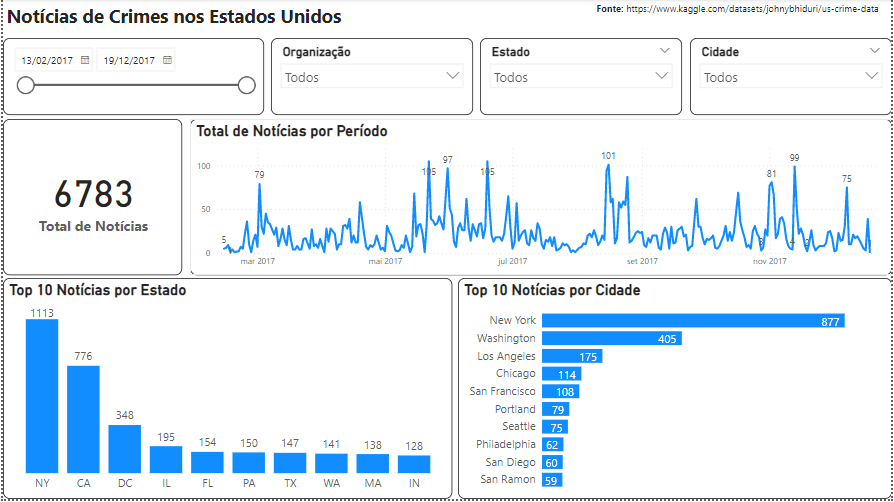

Layout of this report page (visuals, bound fields, positions):
{"tool":"powerbi","page":{"name":"Crimes","canvas":[1280,720],"ordinal":0},"visuals":[{"type":"columnChart","title":"Top 10 Notícias por Estado","fields":{"Category":["US_Crime_Data.State"],"Y":["CountNonNull(US_Crime_Data.Title)"]},"box":[0,401.8,647,318.2],"z":0},{"type":"barChart","title":"Top 10 Notícias por Cidade","fields":{"Category":["US_Crime_Data.City"],"Y":["CountNonNull(US_Crime_Data.Title)"]},"box":[655.2,401.8,625,318.2],"z":1000},{"type":"lineChart","title":"Total de Notícias por Período","fields":{"Y":["CountNonNull(US_Crime_Data.Title)"],"Category":["US_Crime_Data.Date.Variation.Hierarquia de datas.Ano","US_Crime_Data.Date.Variation.Hierarquia de datas.Trimestre","US_Crime_Data.Date.Variation.Hierarquia de datas.Mês","US_Crime_Data.Date.Variation.Hierarquia de datas.Dia"]},"box":[269.3,172.8,1010.9,224.6],"z":2000},{"type":"slicer","fields":{"Values":["US_Crime_Data.Date"]},"box":[-0.3,56.2,375.8,110.9],"z":3000},{"type":"slicer","fields":{"Values":["US_Crime_Data.Organization"]},"box":[386.1,56.2,290.9,110.9],"z":4000},{"type":"slicer","fields":{"Values":["US_Crime_Data.State"]},"box":[687.5,56.2,290.9,110.9],"z":5000},{"type":"slicer","fields":{"Values":["US_Crime_Data.City"]},"box":[988.8,56.2,290.9,110.9],"z":6000},{"type":"card","fields":{"Values":["CountNonNull(US_Crime_Data.Title)"]},"box":[0,172.8,257.8,224.6],"z":7000},{"type":"textbox","box":[0,0,508.3,56.2],"z":8000},{"type":"textbox","box":[849.6,0,430.6,30.2],"z":9000}]}

Visuals, with their boxes in screenshot pixels (x1, y1, x2, y2), scaled from the page's 1280x720 canvas onto the 894x502 screenshot:
"Top 10 Notícias por Estado" columnChart: 0 280 452 501
"Top 10 Notícias por Cidade" barChart: 458 280 893 501
"Total de Notícias por Período" lineChart: 188 120 893 277
slicer - US_Crime_Data.Date: 0 39 262 117
slicer - US_Crime_Data.Organization: 270 39 473 117
slicer - US_Crime_Data.State: 480 39 683 117
slicer - US_Crime_Data.City: 691 39 893 117
card - CountNonNull(US_Crime_Data.Title): 0 120 180 277
textbox: 0 0 355 39
textbox: 593 0 893 21
